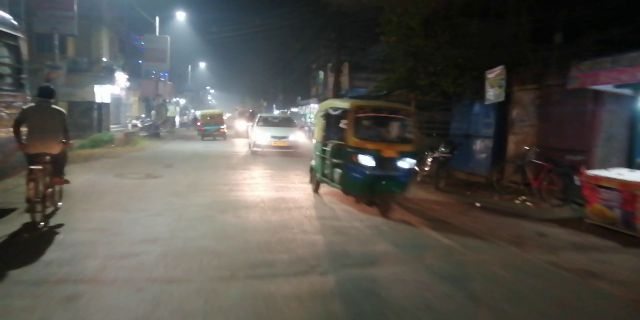Autorickshaw: (321, 100, 420, 208), (196, 110, 227, 144)
Car: (249, 113, 302, 159)
Cycle: (21, 87, 71, 234)
